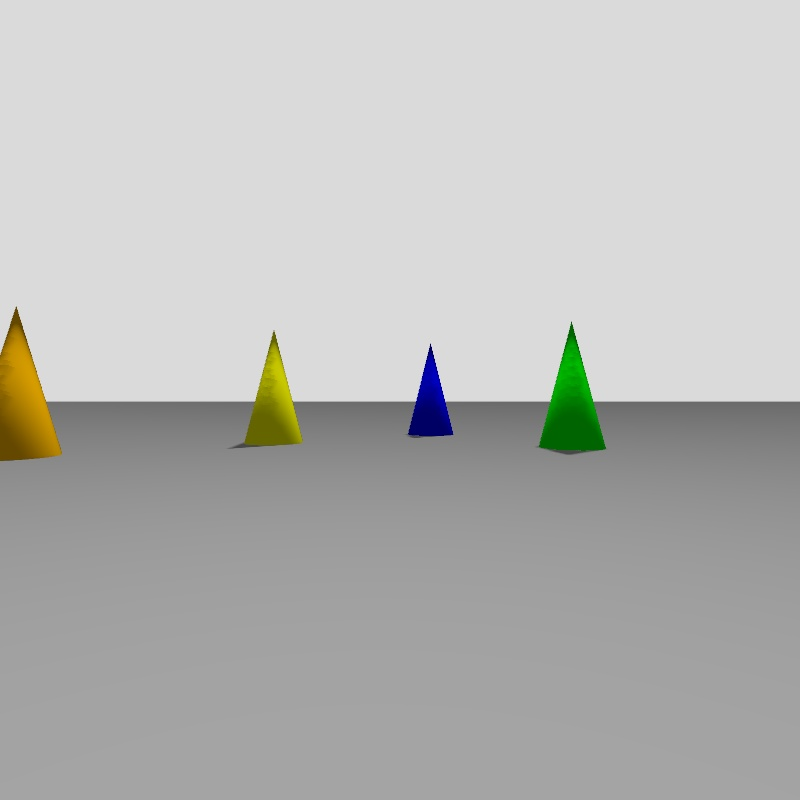Blue_cone: (407, 345, 453, 437)
Green_cone: (539, 324, 605, 451)
Orange_cone: (0, 311, 61, 461)
Yellow_cone: (244, 331, 301, 443)
